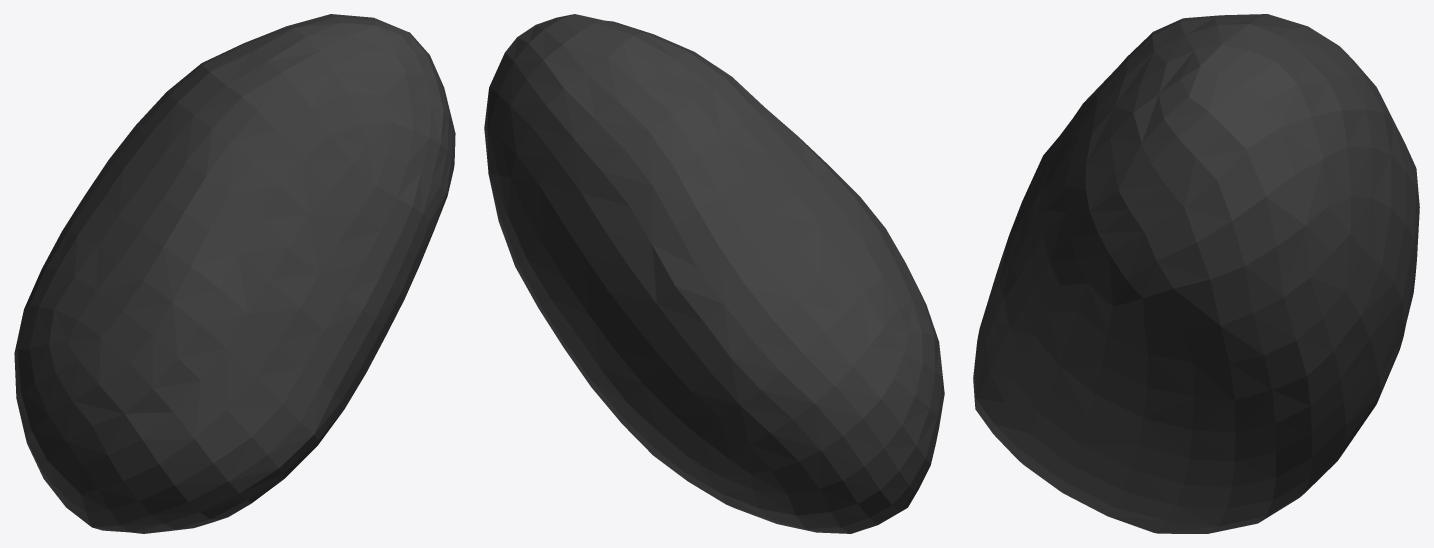
File: dorsal_sesamoid_middle_IV_L.glb
The picture shows the model from 3 angles, left to right: view 1: azimuth 30°, elevation 25°; view 2: azimuth 150°, elevation 25°; view 3: azimuth 270°, elevation 25°; orthographic projection. The views are drawn at different scales.
Visible parts, largest first — view 1: dorsal_sesamoid_middle_IV_L; view 2: dorsal_sesamoid_middle_IV_L; view 3: dorsal_sesamoid_middle_IV_L.
Part boxes in pixels (x1,y1,x2,y2): dorsal_sesamoid_middle_IV_L: (14,14,455,533); dorsal_sesamoid_middle_IV_L: (484,14,944,533); dorsal_sesamoid_middle_IV_L: (973,14,1419,533).
Bounding box in the file's own units: 0.00507 × 0.0052 × 0.00353.
Materials: 1 (1 with a texture image).
